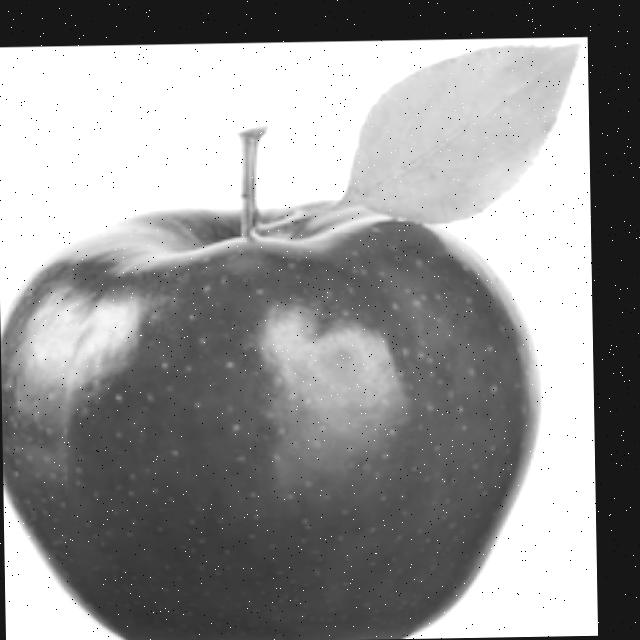Ripe: (0, 160, 561, 640)
